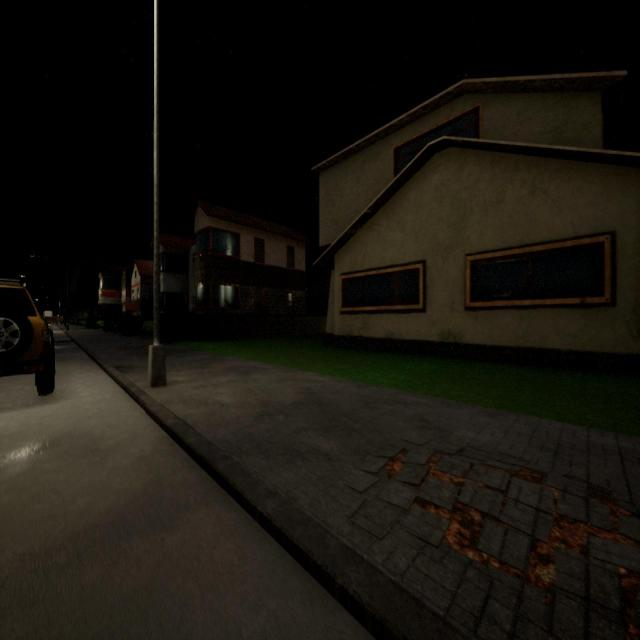Vehicle: (0, 279, 55, 395)
